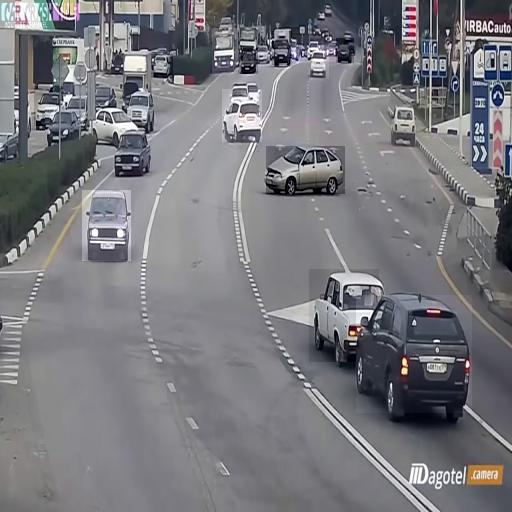小汽车: (356, 295, 472, 413), (309, 269, 379, 362), (266, 146, 345, 194), (82, 190, 131, 261), (222, 89, 262, 142), (90, 106, 138, 147), (114, 130, 152, 178), (45, 108, 86, 150), (389, 98, 418, 144), (212, 28, 238, 73), (34, 86, 63, 126), (272, 32, 292, 66), (311, 45, 329, 79), (151, 54, 173, 78), (240, 48, 258, 74), (336, 38, 354, 63)
